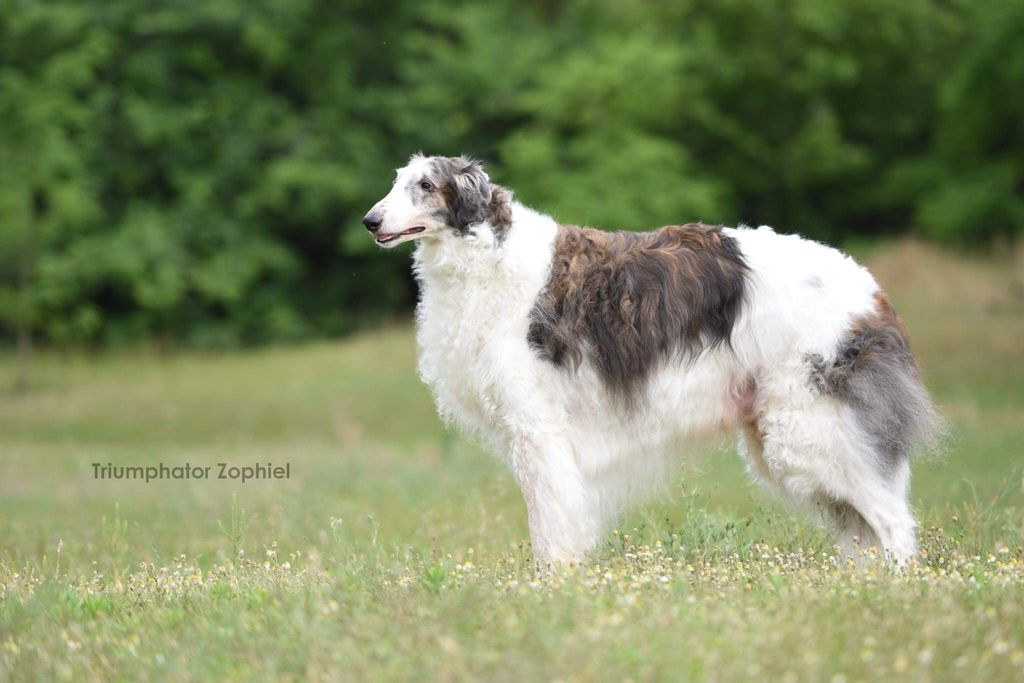borzoi: (359, 142, 960, 585)
